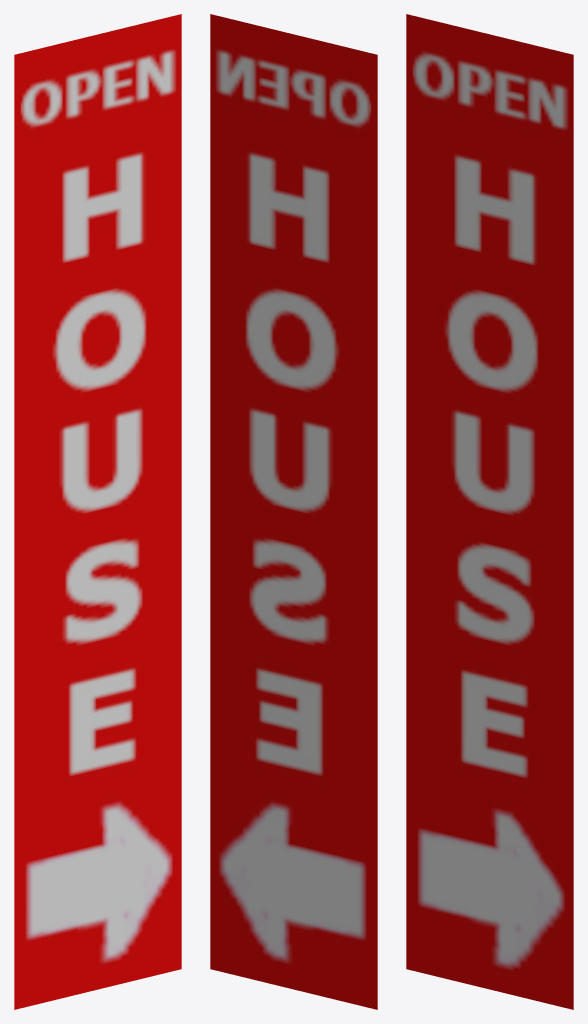
Rendered from banner_procedural.fbx.
3 renders of one model, left to right at view 1: azimuth 30°, elevation 25°; view 2: azimuth 150°, elevation 25°; view 3: azimuth 330°, elevation 25°, orthographic.
Parts seen in each view (by area): view 1: Cube.001; view 2: Cube.001; view 3: Cube.001.
Part boxes in pixels (<box>): Cube.001: <box>14,14,181,1009</box>; Cube.001: <box>210,14,377,1009</box>; Cube.001: <box>406,14,573,1009</box>.
Bounding box in the file's own units: 50 × 273 × 4.44e-05.
1 material, 1 textured.
